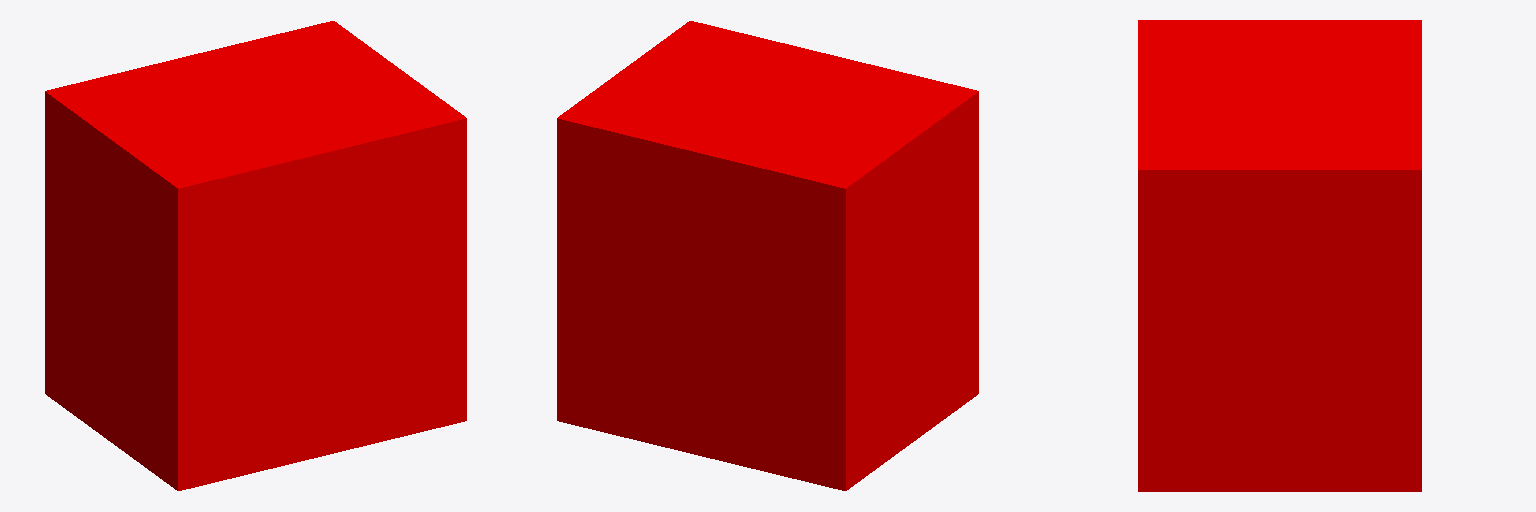
robot.urdf — red_cube:
<?xml version="1.0" ?>
<robot name="red_cube">
  <link name="base_link">
    <inertial>
      <origin rpy="0.0 0.0 0.0" xyz="0.0 0.0 0.0"/>
      <mass value="0.05"/>
      <inertia ixx="4.166666666666668e-05" ixy="0.0" ixz="0.0" iyy="4.166666666666668e-05" iyz="0.0" izz="4.166666666666668e-05"/>
    </inertial>
    <visual>
      <origin rpy="0.0 0.0 0.0" xyz="0.0 0.0 0.025"/>
      <geometry>
        <box size="0.1 0.08 0.1"/>
      </geometry>
      <material name="red">
        <color rgba="1 0 0 1"/>
      </material>
    </visual>
    <collision>
      <origin rpy="0.0 0.0 0.0" xyz="0.0 0.0 0.025"/>
      <geometry>
        <box size="0.1 0.08 0.1"/>
      </geometry>
      <surface>
        <friction>
          <ode>
            <mu>100</mu>
            <mu2>100</mu2>
        <fdir1>1 1 0</fdir1>
          </ode>
        </friction>
      </surface>
    </collision>
  </link>
  <gazebo reference="base_link">
    <material>Gazebo/Red</material>
  </gazebo>
</robot>

--- What the picture shows (computed from the rendered views, not written in the file) ---
The picture shows the robot from 3 angles, left to right: view 1: azimuth 30°, elevation 25°; view 2: azimuth 150°, elevation 25°; view 3: azimuth 270°, elevation 25°; orthographic projection.
Robot: red_cube — 1 links, 0 joints (none); root link base_link; default pose: every joint at zero.
Visible links, largest first — view 1: base_link; view 2: base_link; view 3: base_link.
Link boxes in pixels (<box>): base_link: <box>45,21,466,490</box>; base_link: <box>557,21,978,490</box>; base_link: <box>1138,20,1421,491</box>.
Bounding box of the posed robot: 0.1 × 0.08 × 0.1 m (x, y, z).
Geometry: primitives only (box / cylinder / sphere), no mesh files.